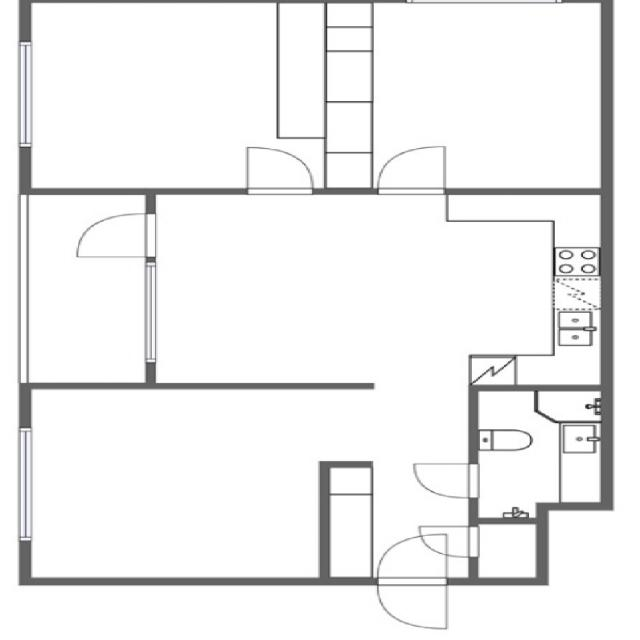door: (378, 534, 447, 585), (378, 578, 447, 628), (77, 213, 155, 256), (377, 146, 445, 194), (247, 147, 312, 194), (414, 464, 478, 498), (420, 526, 478, 557)
